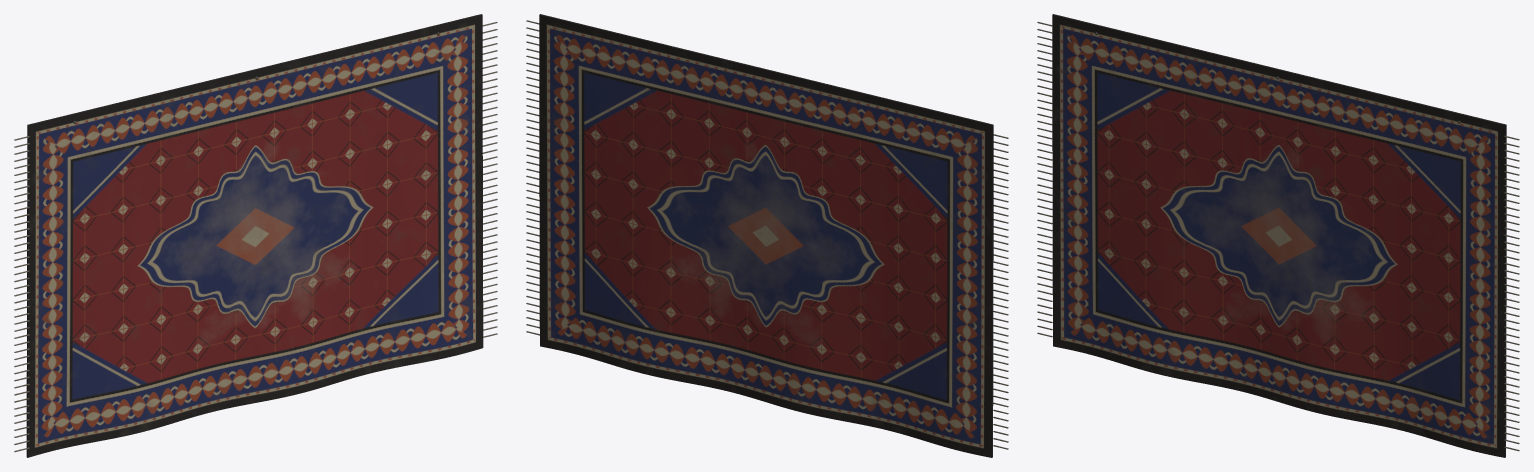
The model's file is SM_Rug_Wall.fbx.
3 views of the same model, side by side, from view 1: azimuth 30°, elevation 25°; view 2: azimuth 150°, elevation 25°; view 3: azimuth 330°, elevation 25° (orthographic).
Visible parts, largest first — view 1: SM_Rug_Wall; view 2: SM_Rug_Wall; view 3: SM_Rug_Wall.
Part boxes in pixels (left/top/right/bottom): SM_Rug_Wall: left=14, top=14, right=497, bottom=457; SM_Rug_Wall: left=526, top=14, right=1008, bottom=457; SM_Rug_Wall: left=1037, top=14, right=1519, bottom=457.
Bounding box in the file's own units: 2.12 × 1.4 × 0.032.
Materials: 1 (1 with a texture image).
